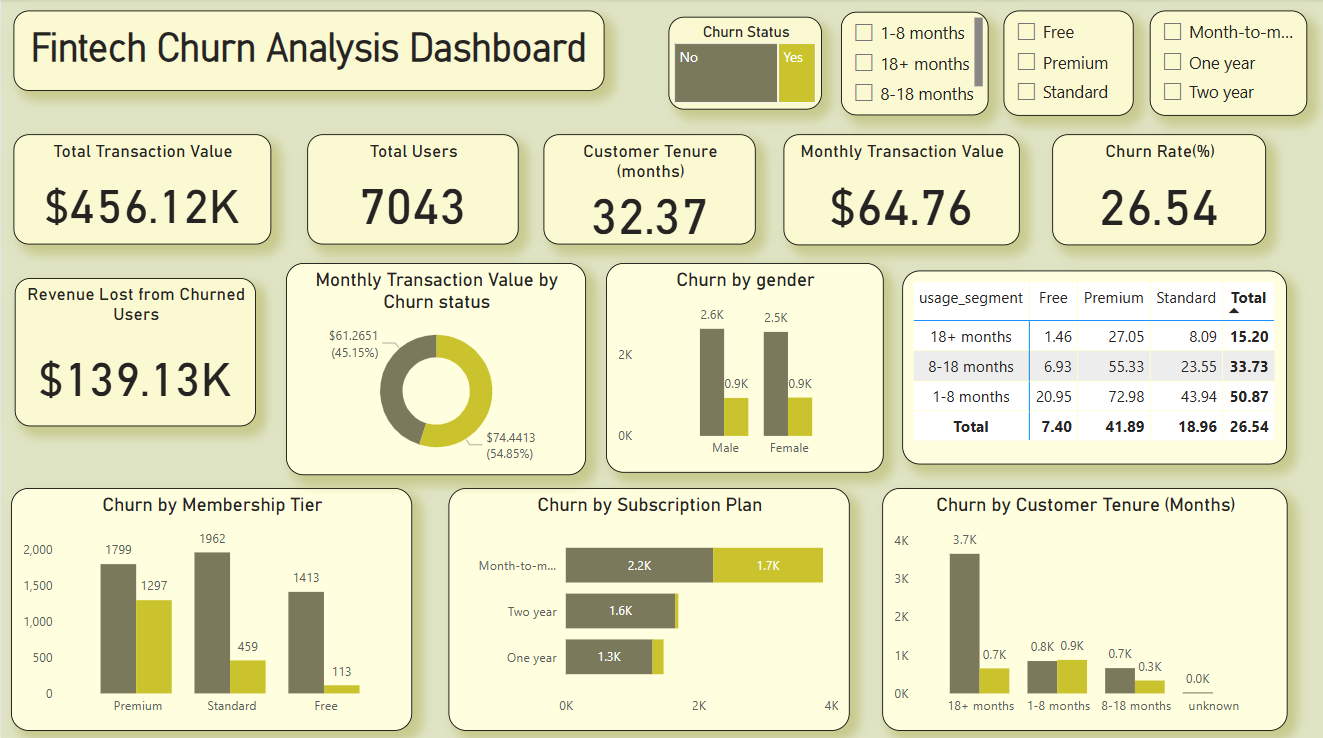

The dashboard page shown, as its layout file describes it:
{"tool":"powerbi","page":{"name":"Page 1","canvas":[1280,720],"ordinal":0},"visuals":[{"type":"barChart","title":"Churn by Subscription Plan","fields":{"Category":["customer_churn.plan_type"],"Series":["customer_churn.Churn"],"Y":["CountNonNull(customer_churn.Churn)"]},"box":[431.9,463.3,387.3,243.7],"z":0},{"type":"clusteredColumnChart","title":" Churn by Membership Tier","fields":{"Series":["customer_churn.Churn"],"Y":["CountNonNull(customer_churn.Churn)"],"Category":["customer_churn.Account_tier"]},"box":[9.7,463.3,387.3,243.7],"z":1000},{"type":"clusteredColumnChart","title":"Churn by gender ","fields":{"Series":["customer_churn.Churn"],"Y":["CountNonNull(customer_churn.Churn)"],"Category":["customer_churn.gender"]},"box":[582.7,238.9,267.8,211.1],"z":2000},{"type":"clusteredColumnChart","title":"Churn by Customer Tenure (Months)","fields":{"Series":["customer_churn.Churn"],"Y":["CountNonNull(customer_churn.Churn)"],"Category":["customer_churn.usage_segment"]},"box":[850.5,463.3,390.9,243.7],"z":3000},{"type":"card","title":"Churn Rate(%)","fields":{"Values":["customer_churn.Churn_Rate_(%)"]},"box":[1014.6,124.3,206.3,105],"z":4000},{"type":"card","title":"Customer Tenure (months)","fields":{"Values":["customer_churn.Measure"]},"box":[525.3,122.4,204.9,105.9],"z":5000},{"type":"card","title":"Total Users","fields":{"Values":["customer_churn.total_users"]},"box":[292.3,122.1,203.1,105.7],"z":6000},{"type":"donutChart","title":"Monthly spend by Churn status","fields":{"Y":["Avg(customer_churn.MonthlySpend)"],"Category":["customer_churn.Churn"]},"box":[281.1,238.9,282.3,211.1],"z":7000},{"type":"card","title":"Revenue Lost from Churned Users","fields":{"Values":["customer_churn.Revenue_lost_month"]},"box":[13.3,270.2,247.3,136.3],"z":8000},{"type":"card","title":"Monthly Spend","fields":{"Values":["customer_churn.total_monthly_spend"]},"box":[12.3,122.1,248.4,105.7],"z":9000},{"type":"card","title":"\tMonthly Transaction Value","fields":{"Values":["customer_churn.avg_spnd"]},"box":[758.9,121.9,228,107.4],"z":10000},{"type":"textbox","box":[12.1,12.1,605.6,79.6],"z":11000},{"type":"slicer","fields":{"Values":["customer_churn.Account_tier"]},"box":[1060.7,12.3,188,87.8],"z":12000},{"type":"slicer","fields":{"Values":["customer_churn.usage_segment"]},"box":[857.8,12.1,188.2,88.1],"z":14000},{"type":"treemap","title":" Churn Status","fields":{"Group":["customer_churn.Churn"],"Values":["customer_churn.total_users"]},"box":[676.8,12.1,164.1,88.1],"z":15000},{"type":"pivotTable","fields":{"Values":["customer_churn.Churn_Rate_(%)"],"Columns":["customer_churn.Account_tier"],"Rows":["customer_churn.usage_segment"]},"box":[869.8,255.8,371.6,187],"z":16000}]}

Visuals, with their boxes in screenshot pixels (x1, y1, x2, y2), scaled from the page's 1280x720 canvas onto the 1323x738 screenshot:
"Churn by Subscription Plan" barChart: BBox(446, 475, 847, 725)
" Churn by Membership Tier" clusteredColumnChart: BBox(10, 475, 410, 725)
"Churn by gender " clusteredColumnChart: BBox(602, 245, 879, 461)
"Churn by Customer Tenure (Months)" clusteredColumnChart: BBox(879, 475, 1283, 725)
"Churn Rate(%)" card: BBox(1049, 127, 1262, 235)
"Customer Tenure (months)" card: BBox(543, 125, 755, 234)
"Total Users" card: BBox(302, 125, 512, 233)
"Monthly spend by Churn status" donutChart: BBox(291, 245, 582, 461)
"Revenue Lost from Churned Users" card: BBox(14, 277, 269, 417)
"Monthly Spend" card: BBox(13, 125, 269, 233)
"	Monthly Transaction Value" card: BBox(784, 125, 1020, 235)
textbox: BBox(13, 12, 638, 94)
slicer - customer_churn.Account_tier: BBox(1096, 13, 1291, 103)
slicer - customer_churn.usage_segment: BBox(887, 12, 1081, 103)
" Churn Status" treemap: BBox(700, 12, 869, 103)
pivotTable - customer_churn.Churn_Rate_(%) x customer_churn.Account_tier: BBox(899, 262, 1283, 454)
